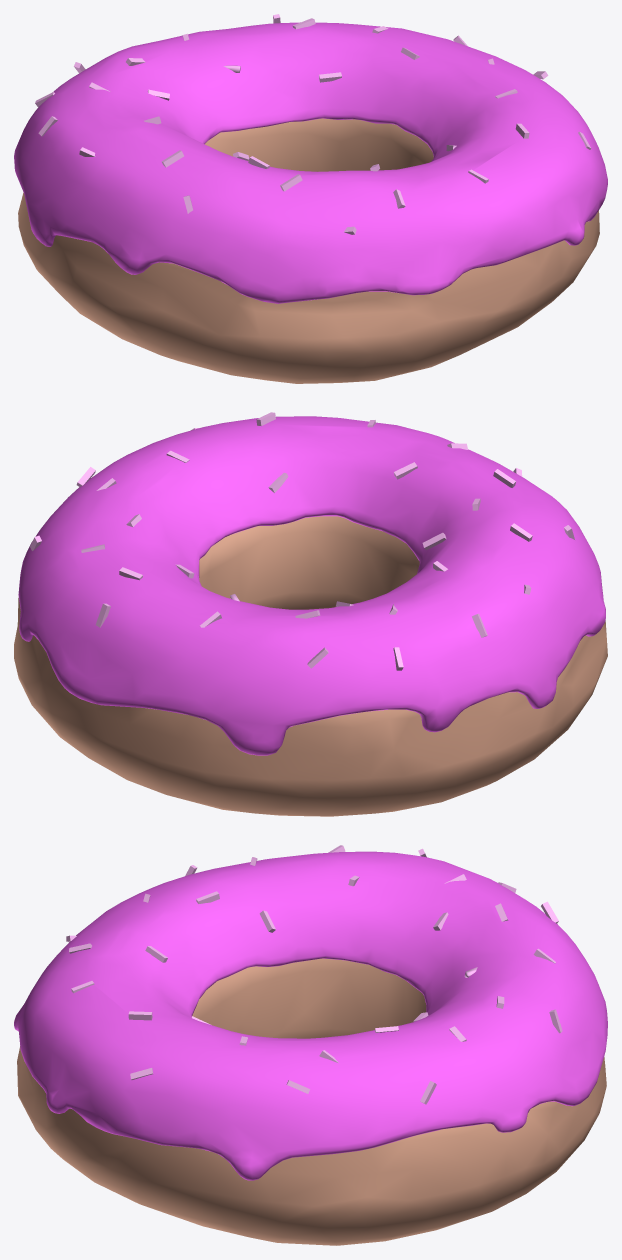
File: Donut.LowPoly_01.fbx
3 views of the same model, one above another, from view 1: azimuth 30°, elevation 25°; view 2: azimuth 150°, elevation 25°; view 3: azimuth 270°, elevation 25° (orthographic). The views are drawn at different scales.
Parts seen in each view (by area): view 1: Streusel; view 2: Streusel; view 3: Streusel.
Part boxes in pixels (<box>): Streusel: <box>14,14,607,383</box>; Streusel: <box>14,412,607,816</box>; Streusel: <box>14,845,607,1245</box>.
Size of the model in its own units: 14.58 by 5.61 by 14.35.
